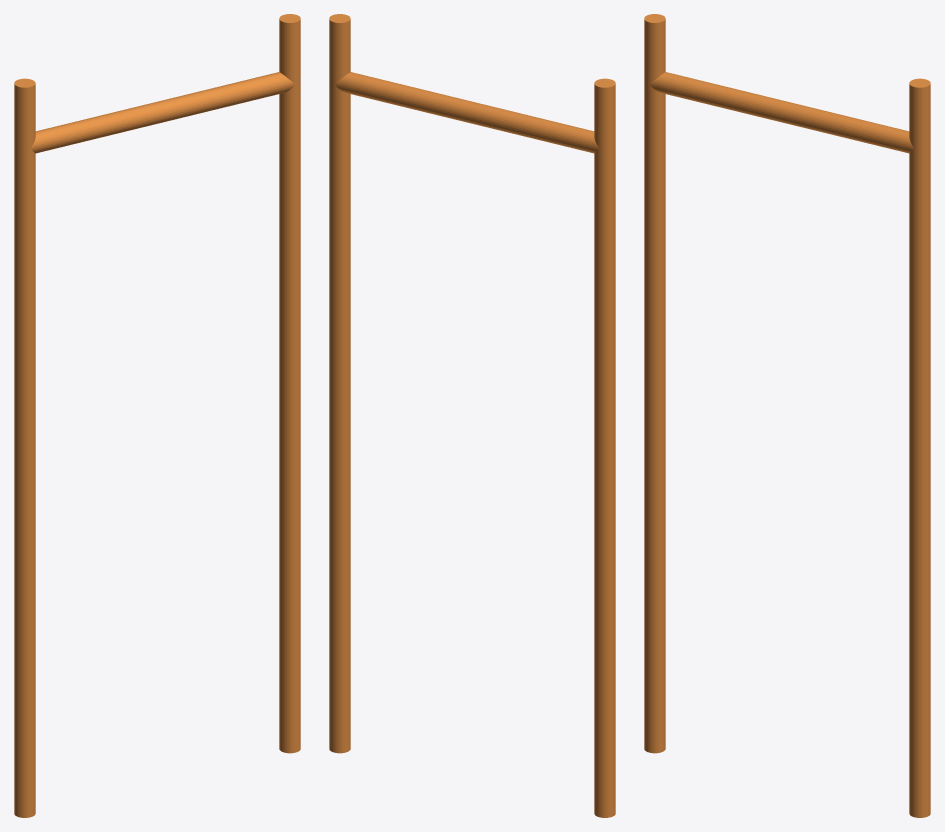
File: monkeybarsM1.glb
3 views of the same model, side by side, from view 1: azimuth 30°, elevation 25°; view 2: azimuth 150°, elevation 25°; view 3: azimuth 330°, elevation 25° (orthographic).
Parts seen in each view (by area): view 1: Cylinder.002; view 2: Cylinder.002; view 3: Cylinder.002.
Boxes of the visible parts, box(x1,y1,x2,y2) form: Cylinder.002: box(14, 14, 300, 817); Cylinder.002: box(329, 14, 615, 817); Cylinder.002: box(644, 14, 930, 817).
Bounding box in the file's own units: 10.09 × 24.82 × 0.66.
